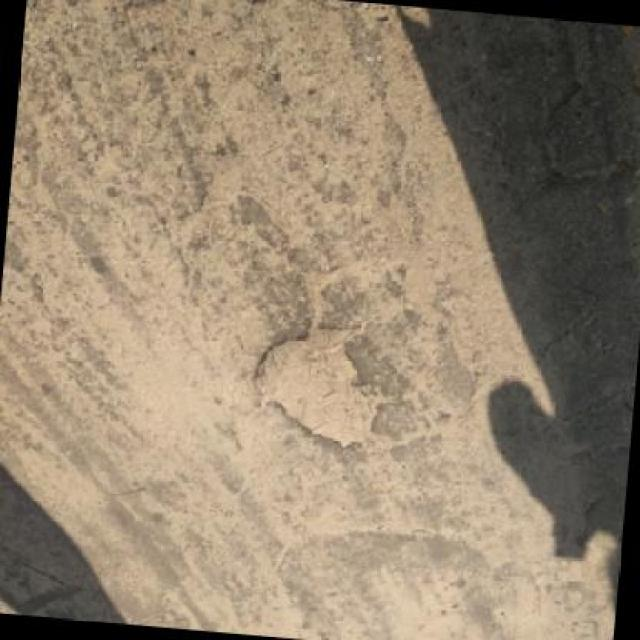pothole1: (242, 318, 392, 457)
